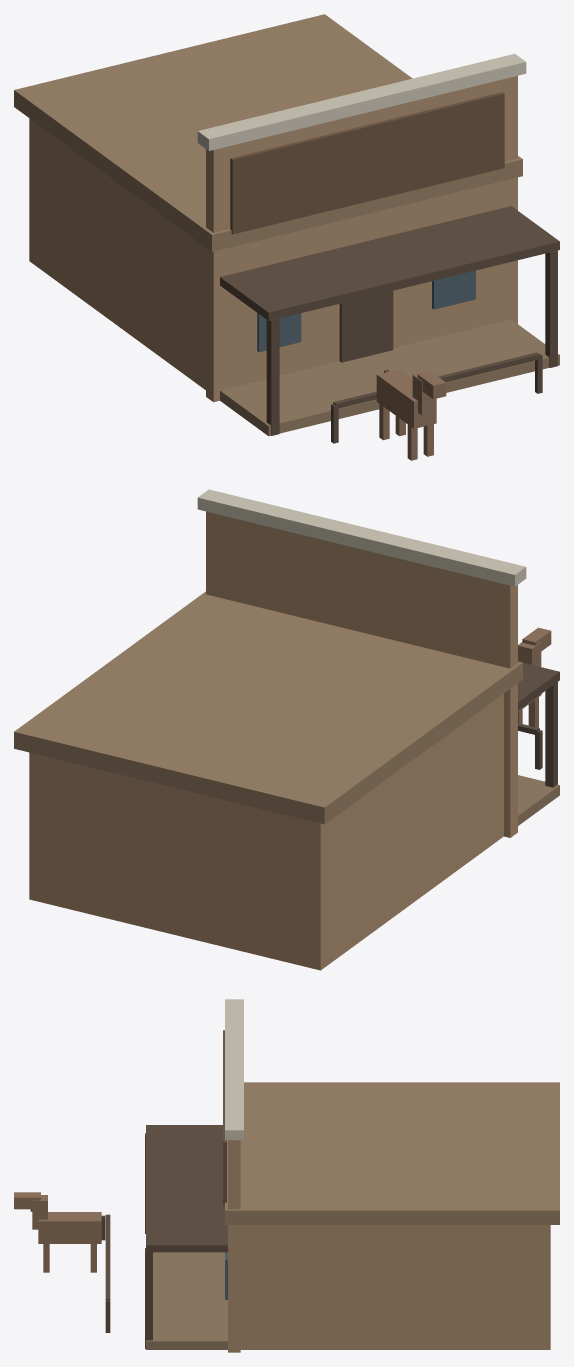
The model's file is w_sheriff.glb.
The picture shows the model from 3 angles, top to bottom: view 1: azimuth 30°, elevation 25°; view 2: azimuth 150°, elevation 25°; view 3: azimuth 270°, elevation 25°; orthographic projection. The views are drawn at different scales.
Parts seen in each view (by area): view 1: koerper; view 2: koerper; view 3: koerper.
Part boxes in pixels (<box>): koerper: <box>14,14,559,460</box>; koerper: <box>14,489,559,970</box>; koerper: <box>14,999,559,1352</box>.
Bounding box in the file's own units: 9.8 × 7.85 × 17.28.
